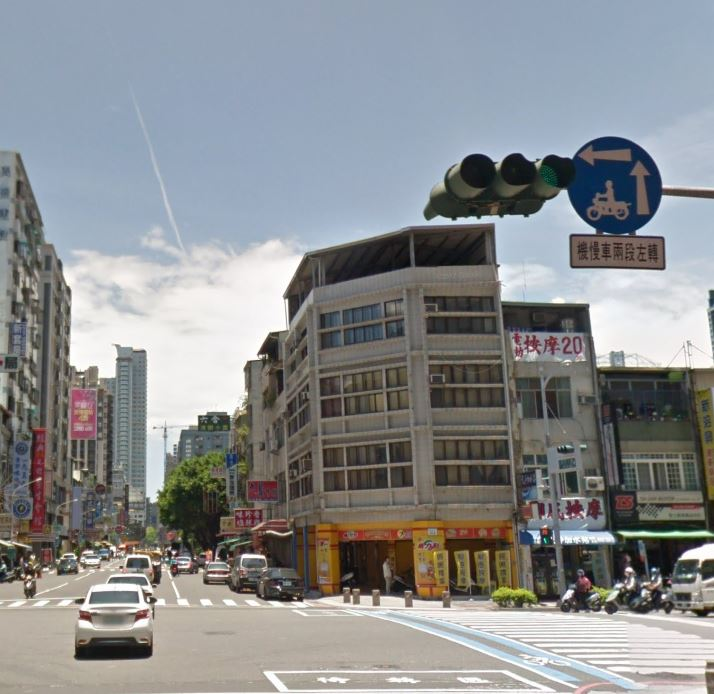Traffic_light_green: (412, 143, 574, 229)
car: (69, 580, 159, 659)
